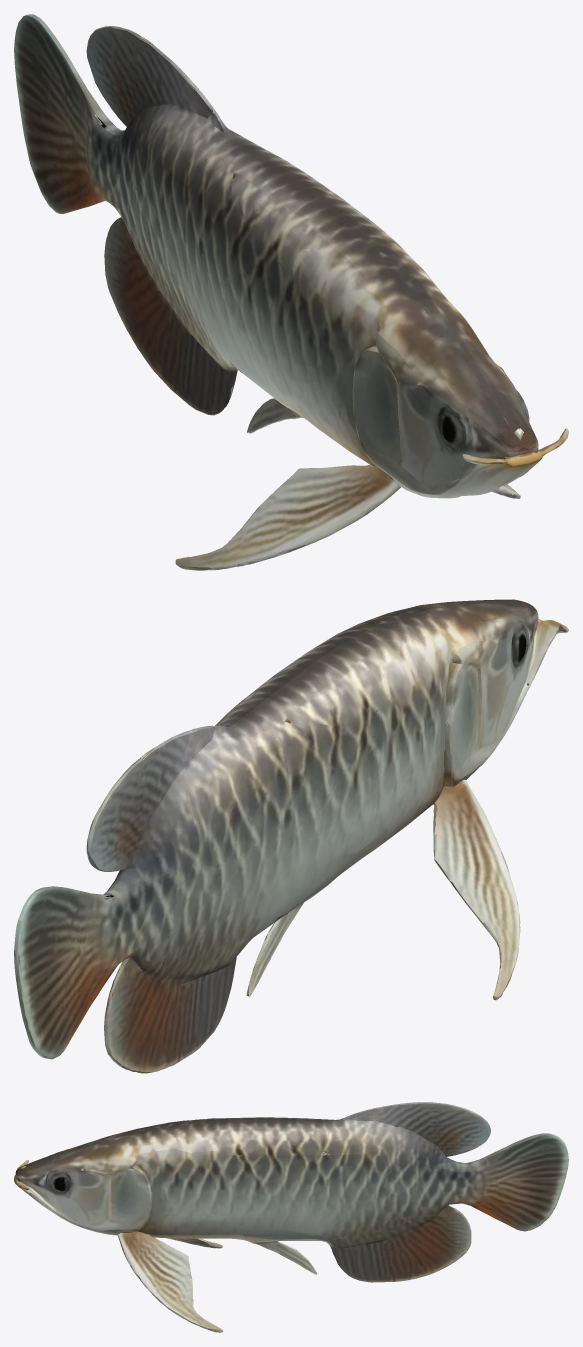
Rendered from silver_arowana.glb.
The picture shows the model from 3 angles, top to bottom: view 1: azimuth 30°, elevation 25°; view 2: azimuth 150°, elevation 25°; view 3: azimuth 270°, elevation 25°; orthographic projection. The views are drawn at different scales.
Parts seen in each view (by area): view 1: world; view 2: world; view 3: world.
Part boxes in pixels (left/top/right/bottom): world: left=14, top=14, right=568, bottom=570; world: left=14, top=599, right=568, bottom=1073; world: left=14, top=1102, right=568, bottom=1332.
Size of the model in its own units: 0.3644 by 0.375 by 1.
Materials: 1 (1 with a texture image).
